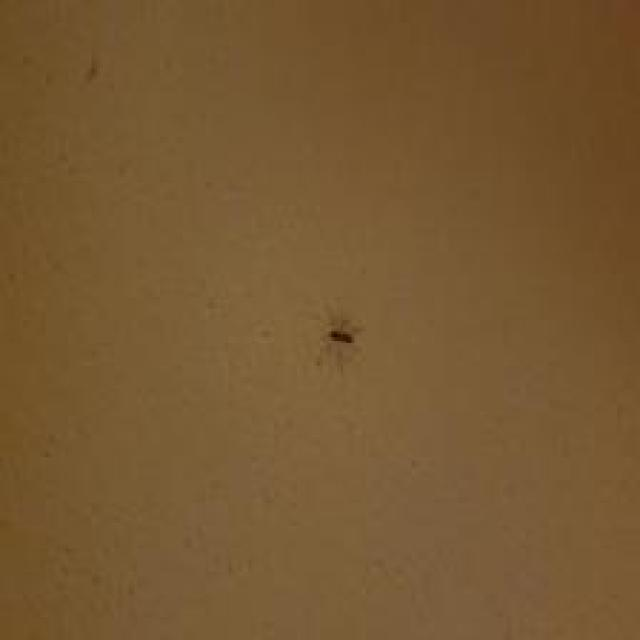Culex: (313, 300, 364, 374)
